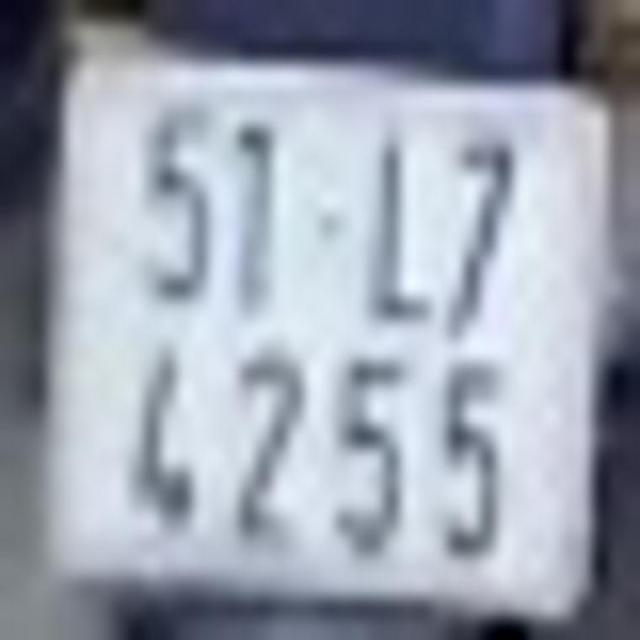1: (222, 108, 286, 324)
2: (232, 338, 308, 553)
4: (134, 336, 200, 565)
5: (436, 352, 513, 564), (336, 342, 408, 564), (140, 96, 216, 306)
7: (442, 127, 516, 336)
L: (364, 121, 438, 330)
